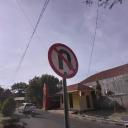NoVirarU: (46, 40, 80, 80)
